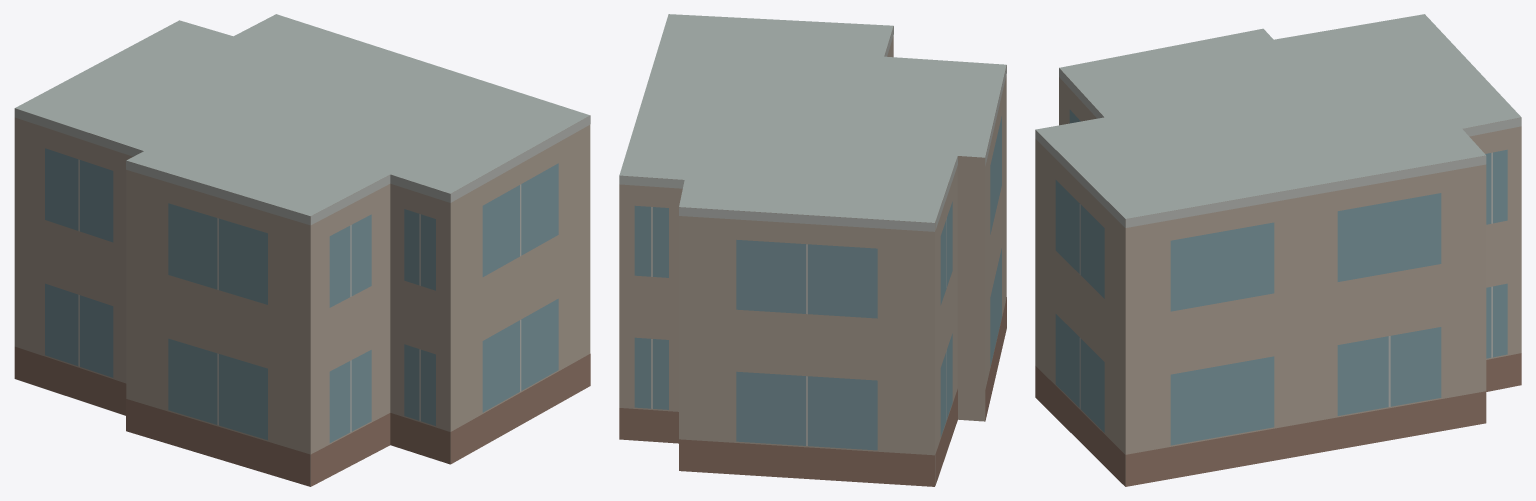
Rendered from survey-upis-32732454.glb.
3 views of the same model, side by side, from view 1: azimuth 30°, elevation 25°; view 2: azimuth 150°, elevation 25°; view 3: azimuth 270°, elevation 25° (orthographic). The views are drawn at different scales.
Parts seen in each view (by area): view 1: survey-upis-32732454.tmp; view 2: survey-upis-32732454.tmp; view 3: survey-upis-32732454.tmp.
Boxes of the visible parts, x1,y1,x2,y2 form: survey-upis-32732454.tmp: [14, 14, 590, 486]; survey-upis-32732454.tmp: [619, 14, 1006, 486]; survey-upis-32732454.tmp: [1035, 14, 1521, 486].
Bounding box in the file's own units: 11.83 × 7.2 × 11.86.
